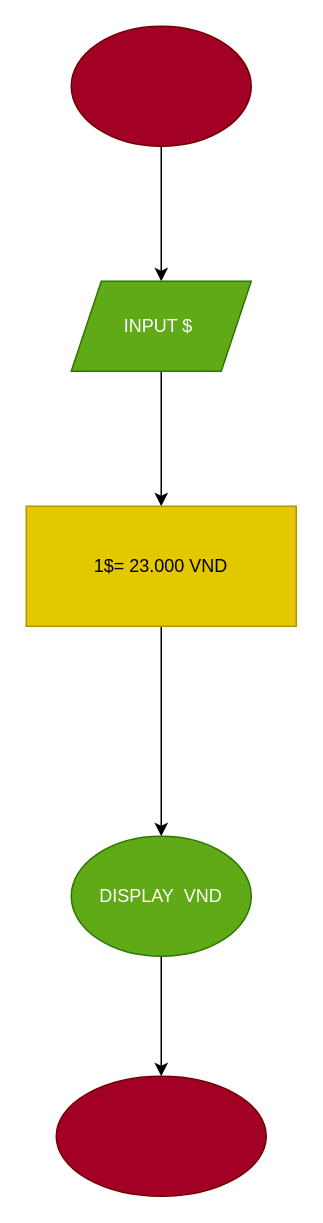
Some shapes in this 323 by 1223 pixel diagram are drawn without their labels. The shapes that lost their labels are listed below. From the top down, each one's centre as x and y in pixels, then its label:
point (160, 85): BEGIN
point (160, 1135): END
